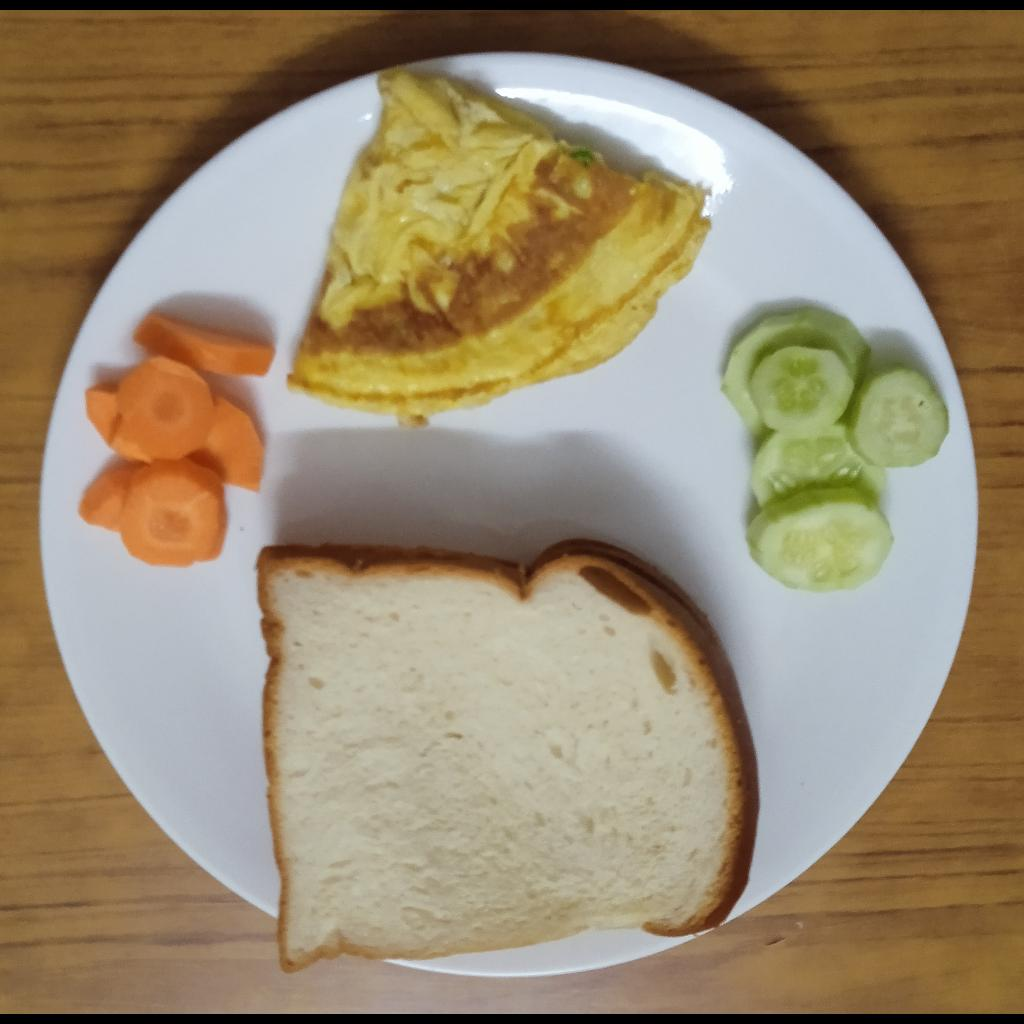bread: (256, 540, 761, 977)
carrot: (79, 314, 276, 569)
cucumber: (719, 306, 950, 592)
egg-poached: (284, 69, 714, 431)
